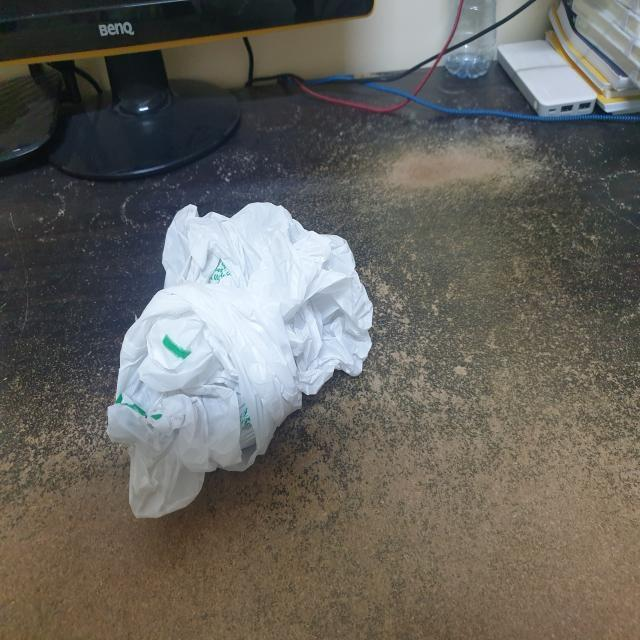Plastic_Bag: (97, 187, 387, 532)
